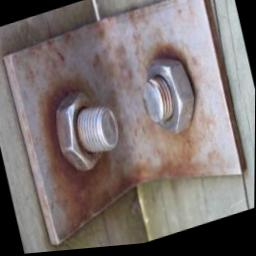Non-Corroded-Nut-and-Bolt: (56, 94, 118, 173), (141, 59, 195, 137)
